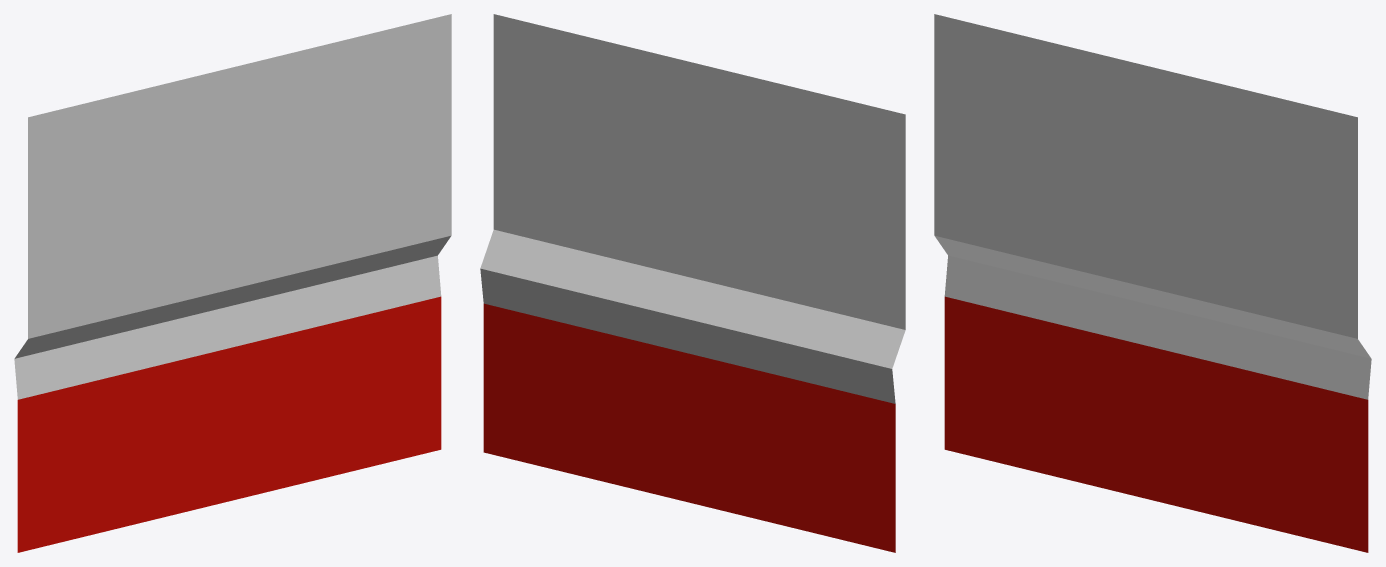
The model's file is wall_bottom_tile.gltf.
3 views of the same model, side by side, from view 1: azimuth 30°, elevation 25°; view 2: azimuth 150°, elevation 25°; view 3: azimuth 330°, elevation 25° (orthographic). The views are drawn at different scales.
Parts seen in each view (by area): view 1: WallBottom; view 2: WallBottom; view 3: WallBottom.
Boxes of the visible parts, bbox=[...] form: WallBottom: bbox=[14, 14, 451, 552]; WallBottom: bbox=[480, 14, 905, 552]; WallBottom: bbox=[934, 14, 1371, 552].
Bounding box in the file's own units: 2 × 2 × 0.1126.
